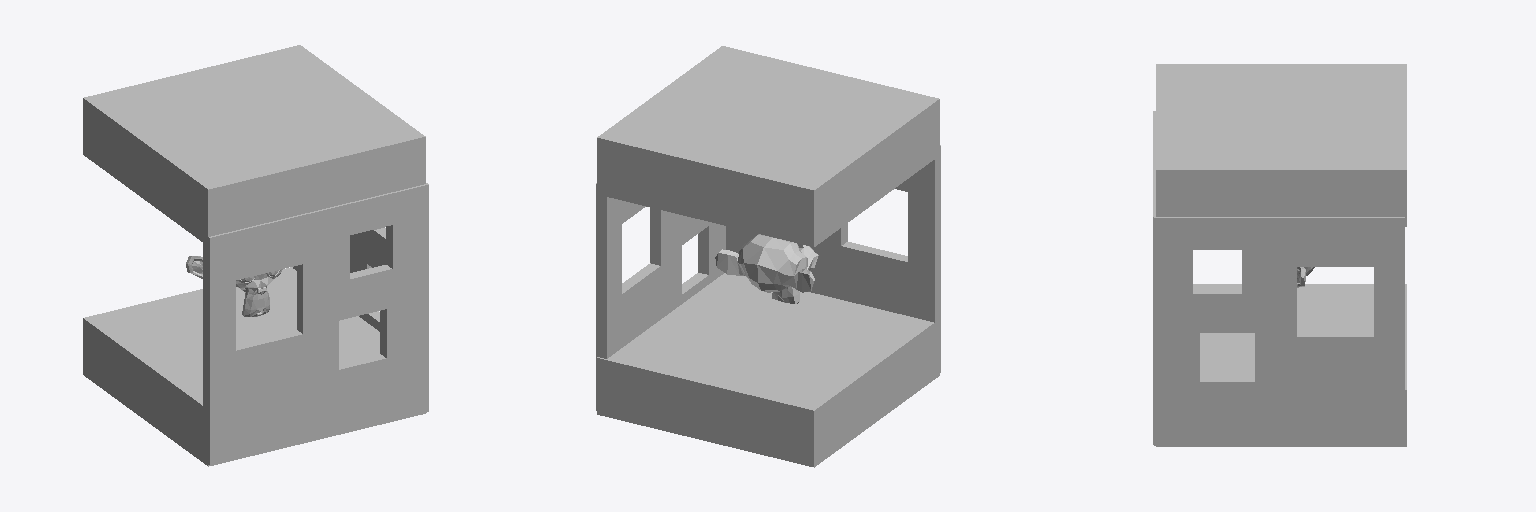
File: SceneM2.obj
3 renders of one model, left to right at view 1: azimuth 30°, elevation 25°; view 2: azimuth 150°, elevation 25°; view 3: azimuth 270°, elevation 25°, orthographic.
Parts seen in each view (by area): view 1: Cube.003, Cube.002, Cube, Cube.001, Suzanne; view 2: Cube.003, Cube, Cube.001, Cube.002, Suzanne; view 3: Cube.001, Cube.003, Cube, Cube.002.
Part boxes in pixels (x1,y1,x2,y2): Cube.003: (83,45,425,245); Cube.002: (203,184,426,464); Cube: (83,267,425,466); Cube.001: (293,183,428,411); Suzanne: (186,256,282,316); Cube.003: (597,46,939,246); Cube: (597,273,939,467); Cube.001: (596,183,725,410); Cube.002: (726,145,940,376); Suzanne: (715,234,818,303); Cube.001: (1154,213,1404,445); Cube.003: (1156,64,1406,226); Cube: (1156,284,1406,446); Cube.002: (1153,111,1155,444).
Size of the model in its own units: 4.04 by 4.87 by 4.04.